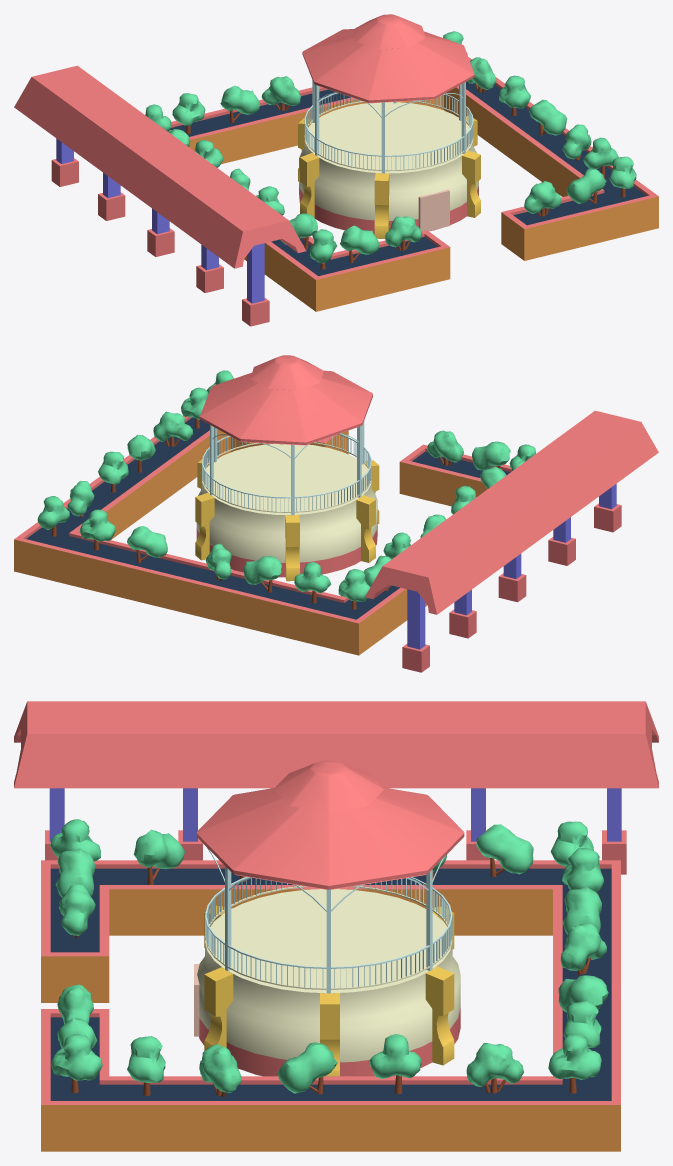
File: MOR_TEP_ZOCALO.fbx
3 views of the same model, one above another, from view 1: azimuth 30°, elevation 25°; view 2: azimuth 150°, elevation 25°; view 3: azimuth 270°, elevation 25° (orthographic). The views are drawn at different scales.
Visible parts, largest first — view 1: MOR_TEP_ZOCALO_LOD0; view 2: MOR_TEP_ZOCALO_LOD0; view 3: MOR_TEP_ZOCALO_LOD0.
Boxes of the visible parts, left/top/right/bottom form: MOR_TEP_ZOCALO_LOD0: left=14, top=14, right=658, bottom=326; MOR_TEP_ZOCALO_LOD0: left=14, top=355, right=658, bottom=672; MOR_TEP_ZOCALO_LOD0: left=14, top=701, right=658, bottom=1151.
Size of what is drawn, in the model's own units: 981 by 386 by 864.
